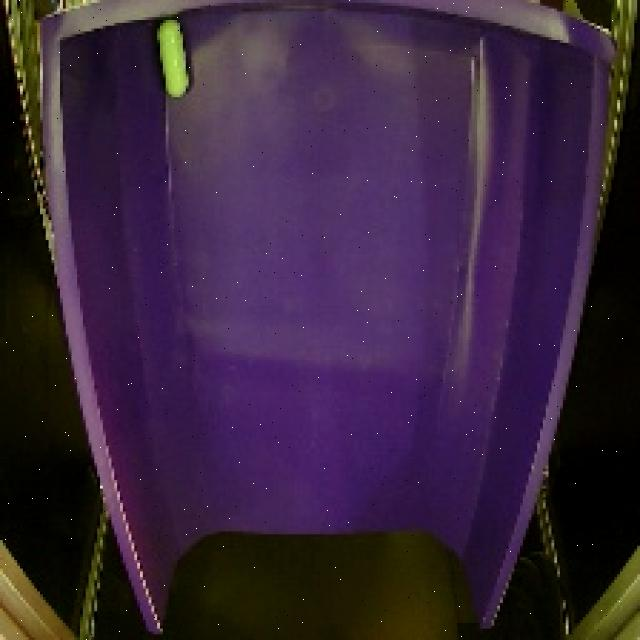small: (147, 10, 202, 106)
